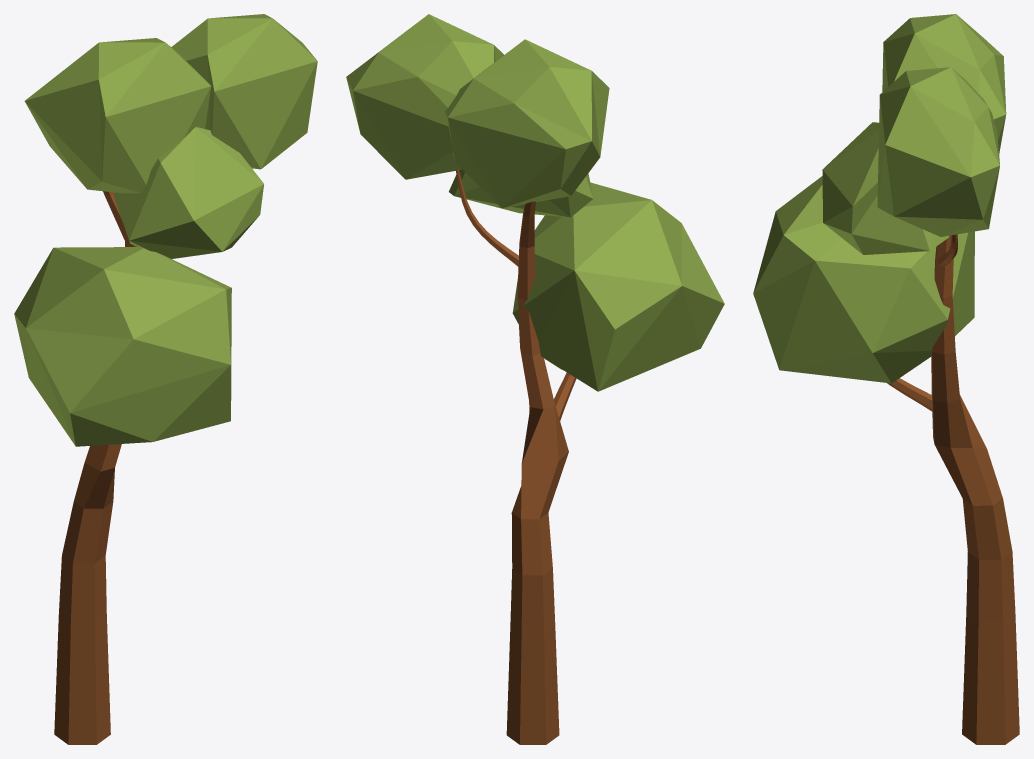
The model's file is Drzewo2.fbx.
The picture shows the model from 3 angles, left to right: view 1: azimuth 30°, elevation 25°; view 2: azimuth 150°, elevation 25°; view 3: azimuth 270°, elevation 25°; orthographic projection. The views are drawn at different scales.
Parts seen in each view (by area): view 1: Cylinder.007; view 2: Cylinder.007; view 3: Cylinder.007.
Boxes of the visible parts, left/top/right/bottom form: Cylinder.007: left=14, top=14, right=317, bottom=744; Cylinder.007: left=346, top=14, right=724, bottom=744; Cylinder.007: left=753, top=14, right=1019, bottom=744.
Size of the model in its own units: 769 by 1630 by 544.
